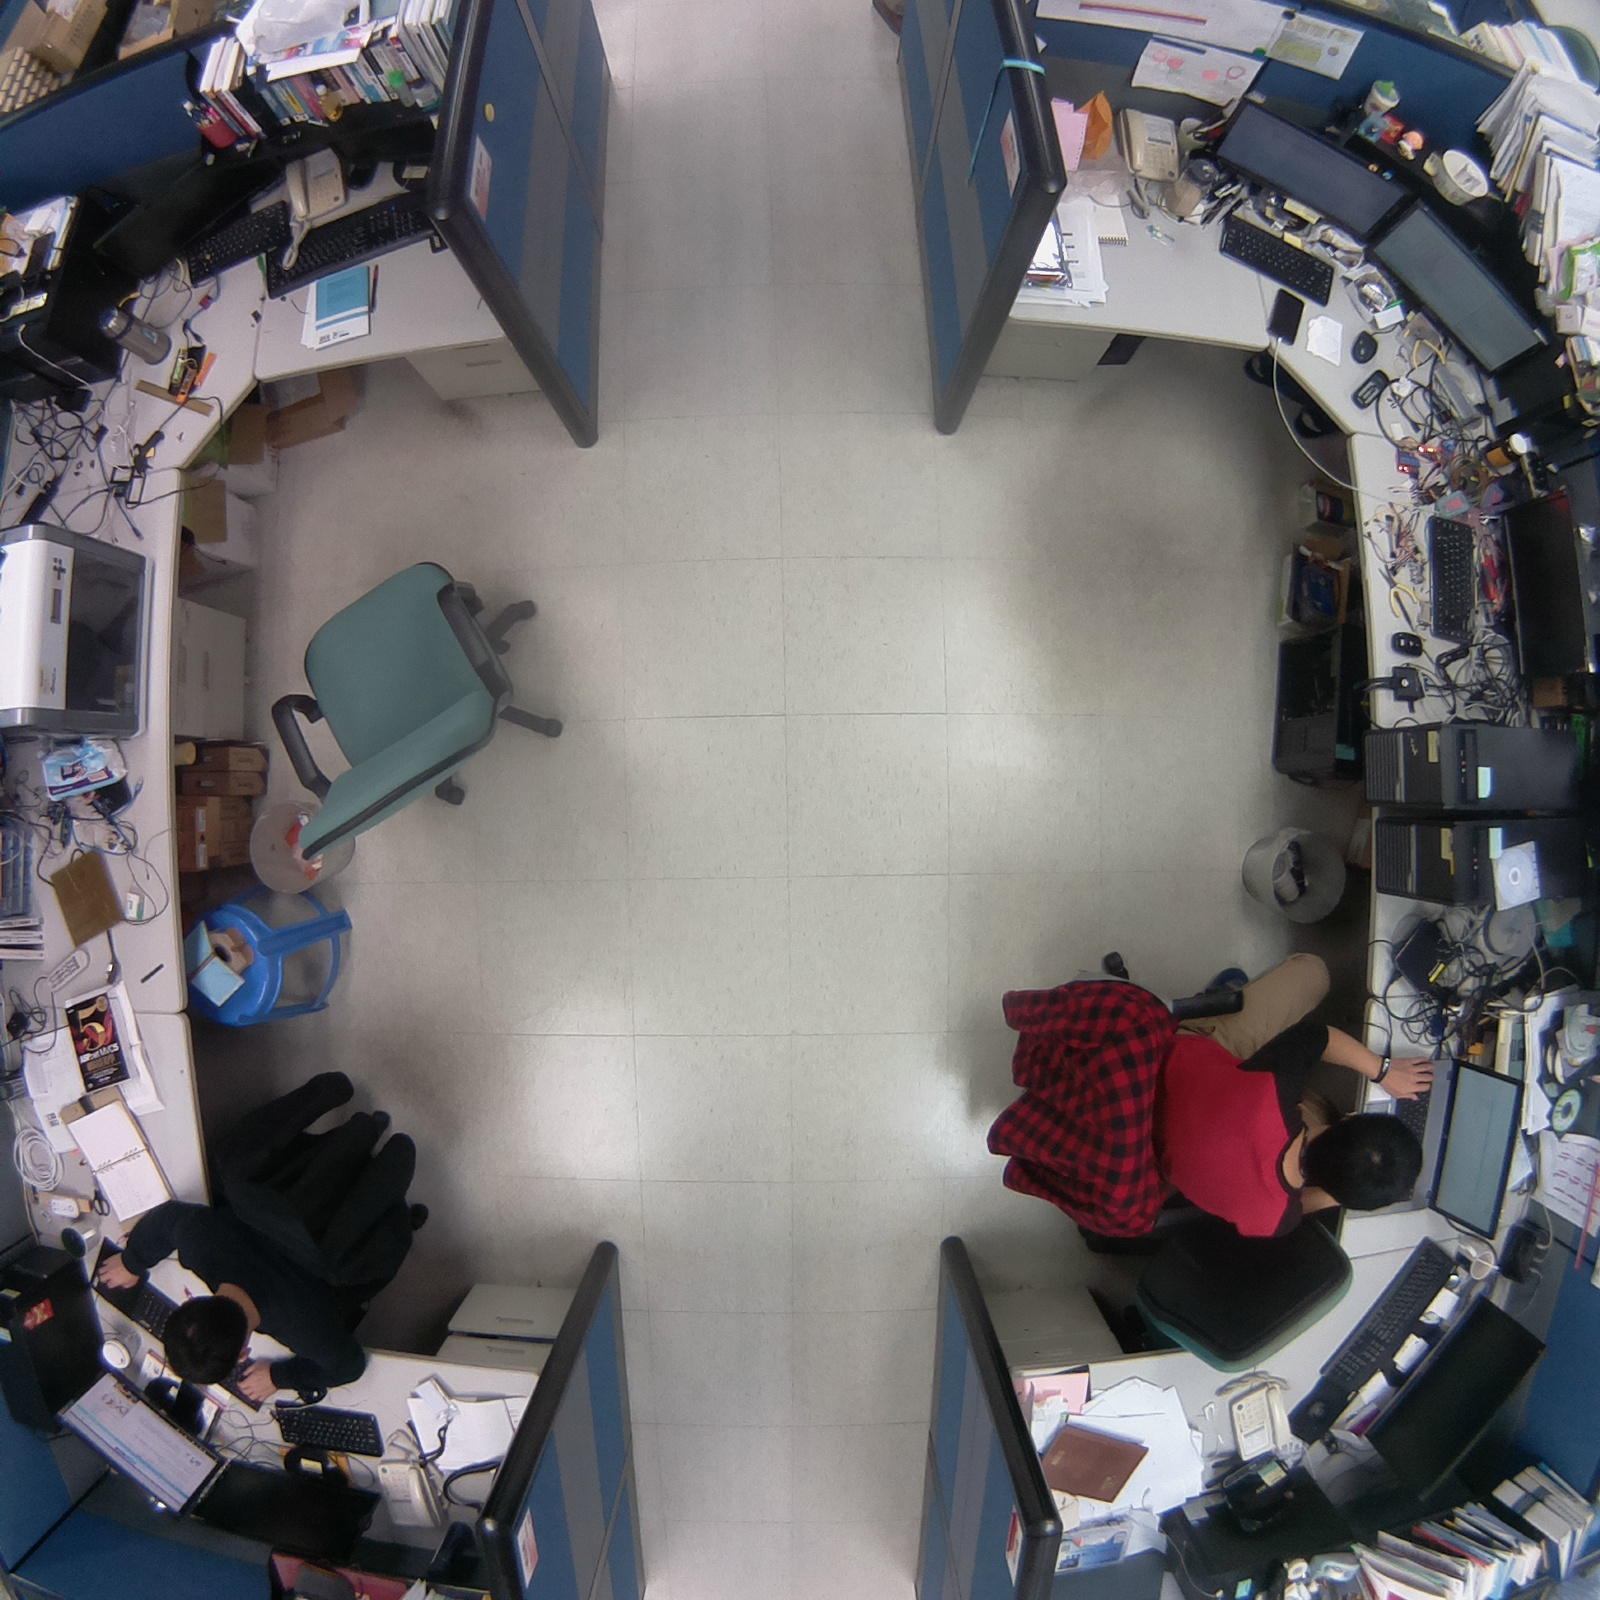chair: (268, 524, 576, 896), (1078, 1191, 1363, 1386)
head: (1293, 1097, 1427, 1217), (159, 1282, 255, 1389)
sitting: (976, 929, 1440, 1255), (101, 1045, 468, 1406)
